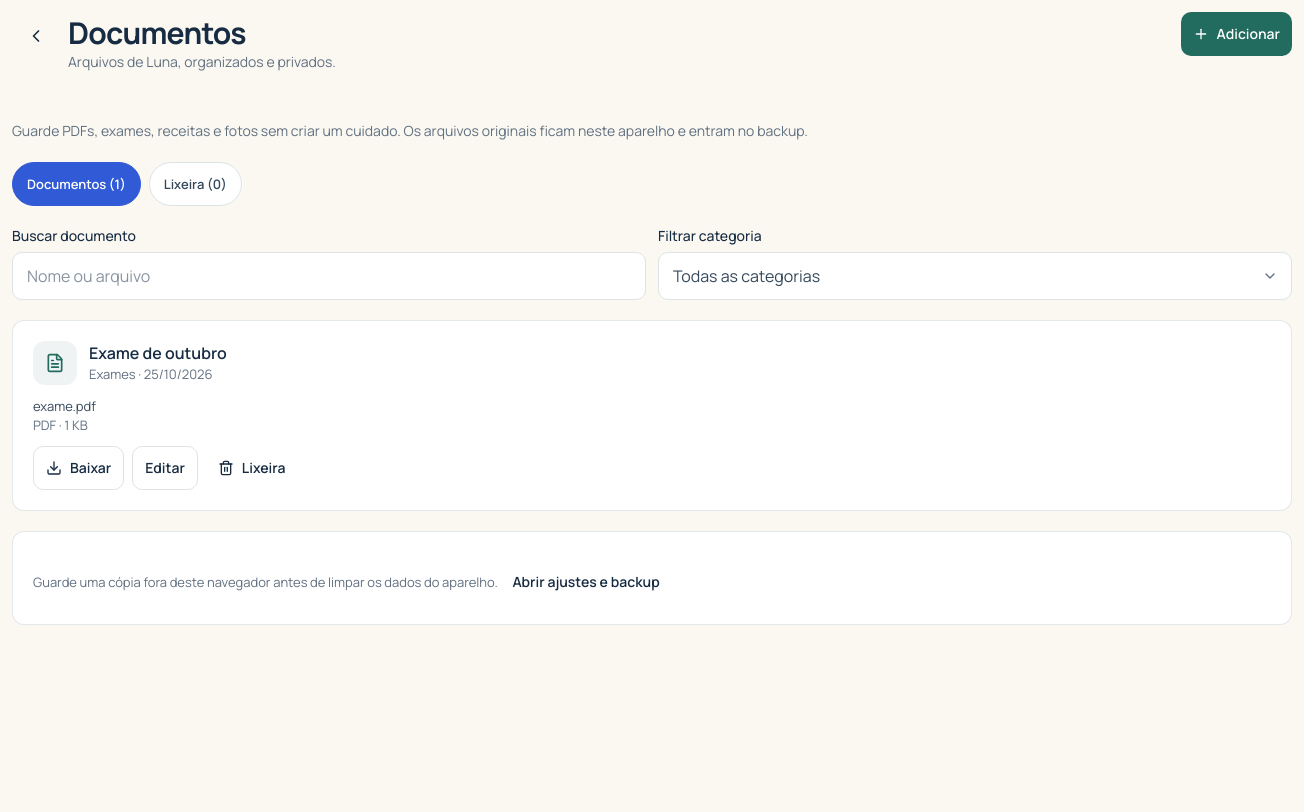
biblioteca de documentos › mantém o documento acessível quando mover à lixeira falha
This screenshot has width=1304, height=812.
Click the button with aria-label "Mover Exame de outubro para a lixeira". click: point(252, 468)
box: [206,446,297,490]
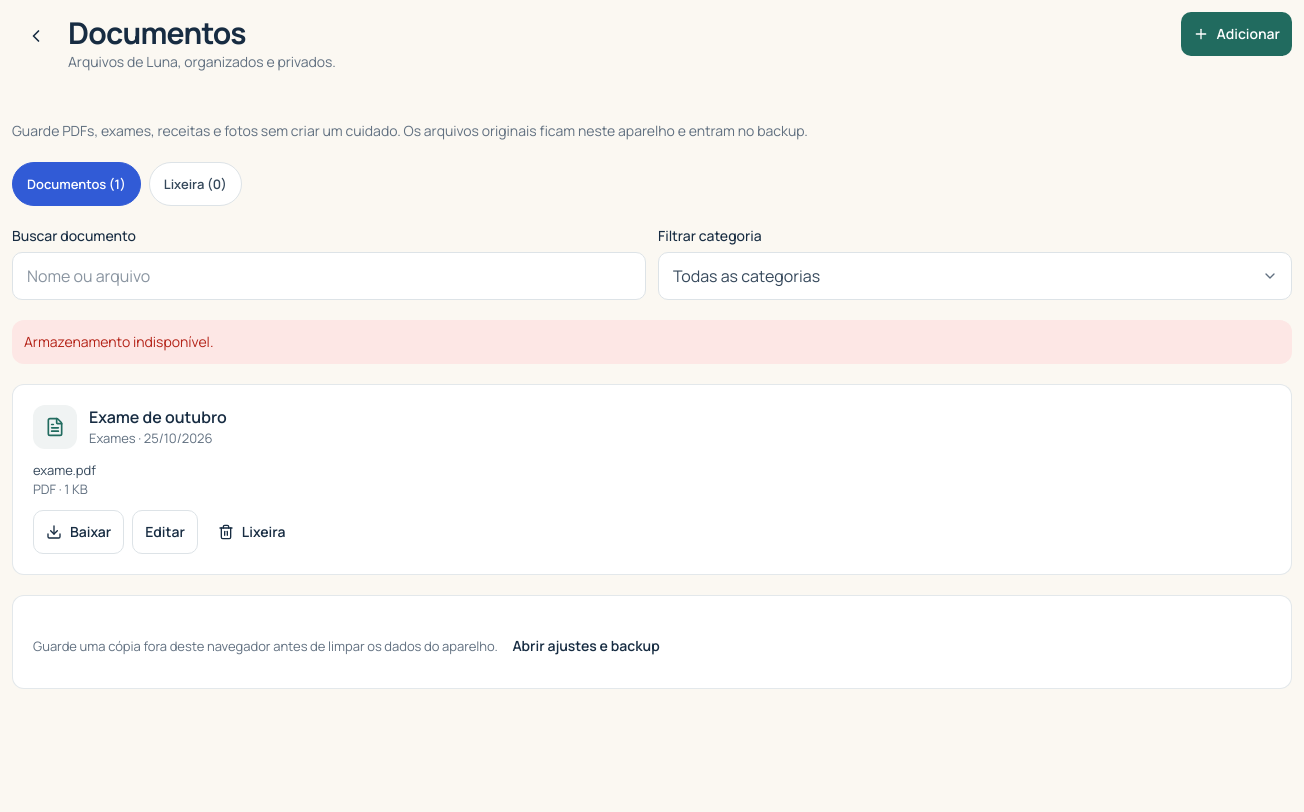
Check: the button with aria-label "Baixar Exame de outubro" is enabled, box [33,510,124,554]
Check: the message shows "Armazenamento indisponível", box [24,332,214,351]
